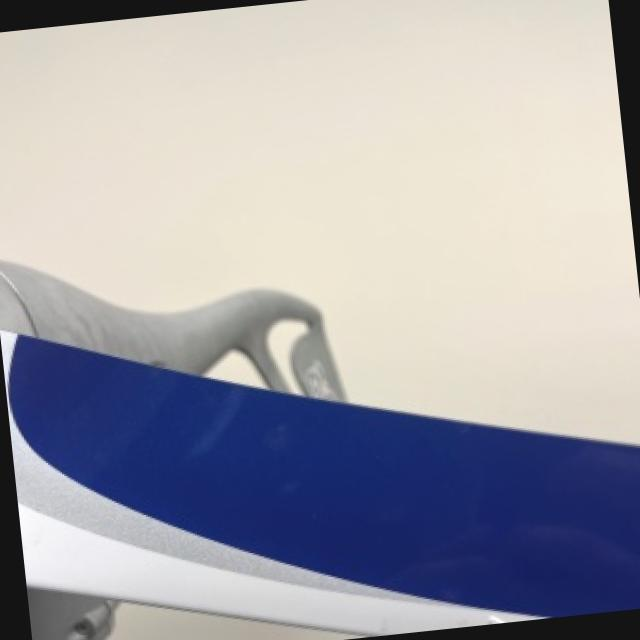healthy: (0, 261, 640, 634)
